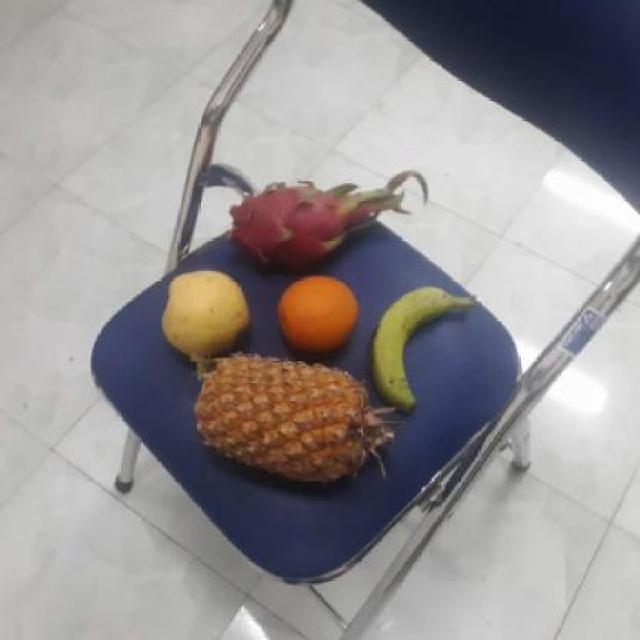banana: (371, 280, 449, 411)
dragon fruit: (230, 182, 372, 272)
oren: (275, 274, 362, 358)
pear: (161, 267, 250, 362)
pineapple: (192, 354, 372, 480)
